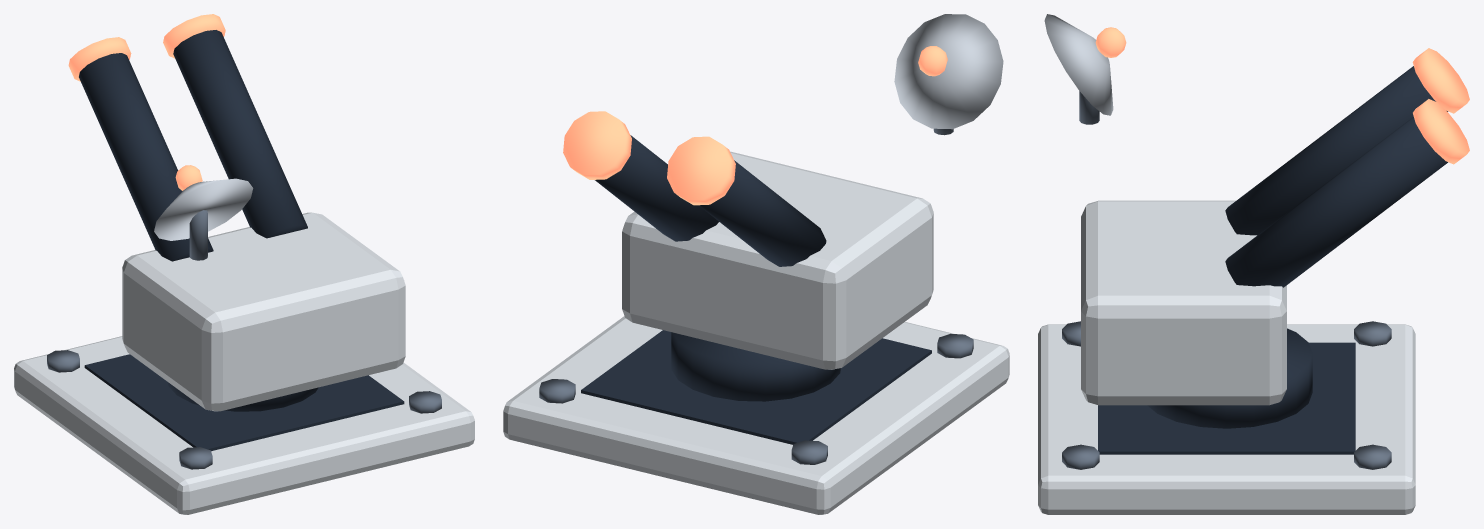
Rendered from flak.fbx.
3 views of the same model, side by side, from view 1: azimuth 30°, elevation 25°; view 2: azimuth 150°, elevation 25°; view 3: azimuth 270°, elevation 25° (orthographic). The views are drawn at different scales.
Visible parts, largest first — view 1: Panel_Cradle0, Panel_Plate0.005, Inset_Barrel1.002, Inset_Inset0.005, Inset_Barrel0.002, Dish_Dish0.002, Emit_Tip0.002, Emit_Tip1.002, Inset_Ring0.005, Gun_Mast0.002, Gun_Bolt0.005, Gun_Bolt2.005 (+1 smaller); view 2: Panel_Cradle0, Panel_Plate0.005, Inset_Inset0.005, Dish_Dish0.002, Inset_Ring0.005, Inset_Barrel0.002, Inset_Barrel1.002, Emit_Tip1.002, Emit_Tip0.002, Gun_Bolt1.005, Gun_Bolt3.005, Gun_Bolt0.005 (+1 smaller); view 3: Panel_Cradle0, Panel_Plate0.005, Inset_Barrel1.002, Inset_Inset0.005, Inset_Barrel0.002, Inset_Ring0.005, Dish_Dish0.002, Emit_Tip0.002, Emit_Tip1.002, Gun_Bolt1.005, Gun_Bolt2.005, Gun_Bolt3.005 (+1 smaller).
Boxes of the visible parts, bbox=[...] form: Panel_Cradle0: bbox=[122, 212, 405, 411]; Panel_Plate0.005: bbox=[14, 336, 474, 514]; Inset_Barrel1.002: bbox=[173, 30, 307, 238]; Inset_Inset0.005: bbox=[84, 354, 404, 451]; Inset_Barrel0.002: bbox=[79, 53, 213, 261]; Dish_Dish0.002: bbox=[154, 178, 253, 240]; Emit_Tip0.002: bbox=[68, 37, 131, 81]; Emit_Tip1.002: bbox=[163, 14, 225, 58]; Inset_Ring0.005: bbox=[168, 382, 318, 411]; Gun_Mast0.002: bbox=[189, 210, 207, 260]; Gun_Bolt0.005: bbox=[179, 447, 212, 469]; Gun_Bolt2.005: bbox=[409, 391, 441, 413]; Panel_Cradle0: bbox=[622, 151, 933, 369]; Panel_Plate0.005: bbox=[503, 316, 1009, 514]; Inset_Inset0.005: bbox=[581, 330, 931, 444]; Dish_Dish0.002: bbox=[894, 14, 1003, 129]; Inset_Ring0.005: bbox=[671, 332, 840, 401]; Inset_Barrel0.002: bbox=[699, 160, 826, 266]; Inset_Barrel1.002: bbox=[595, 135, 718, 241]; Emit_Tip1.002: bbox=[563, 111, 631, 179]; Emit_Tip0.002: bbox=[667, 136, 735, 205]; Gun_Bolt1.005: bbox=[791, 440, 827, 464]; Gun_Bolt3.005: bbox=[539, 379, 575, 403]; Gun_Bolt0.005: bbox=[937, 333, 973, 358]; Panel_Cradle0: bbox=[1081, 200, 1286, 405]; Panel_Plate0.005: bbox=[1038, 324, 1415, 514]; Inset_Barrel1.002: bbox=[1225, 117, 1447, 287]; Inset_Inset0.005: bbox=[1098, 342, 1355, 454]; Inset_Barrel0.002: bbox=[1225, 66, 1447, 235]; Inset_Ring0.005: bbox=[1147, 328, 1312, 428]; Dish_Dish0.002: bbox=[1044, 14, 1113, 115]; Emit_Tip0.002: bbox=[1412, 48, 1469, 113]; Emit_Tip1.002: bbox=[1413, 99, 1469, 164]; Gun_Bolt1.005: bbox=[1354, 321, 1391, 346]; Gun_Bolt2.005: bbox=[1062, 444, 1099, 469]; Gun_Bolt3.005: bbox=[1354, 444, 1391, 469].
Size of the model in its own units: 0.45 by 0.5032 by 0.4649.
